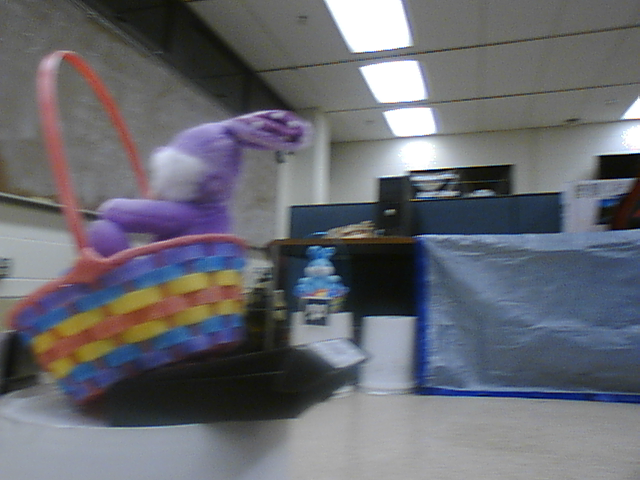bunny: (14, 55, 312, 409), (297, 234, 357, 312)
